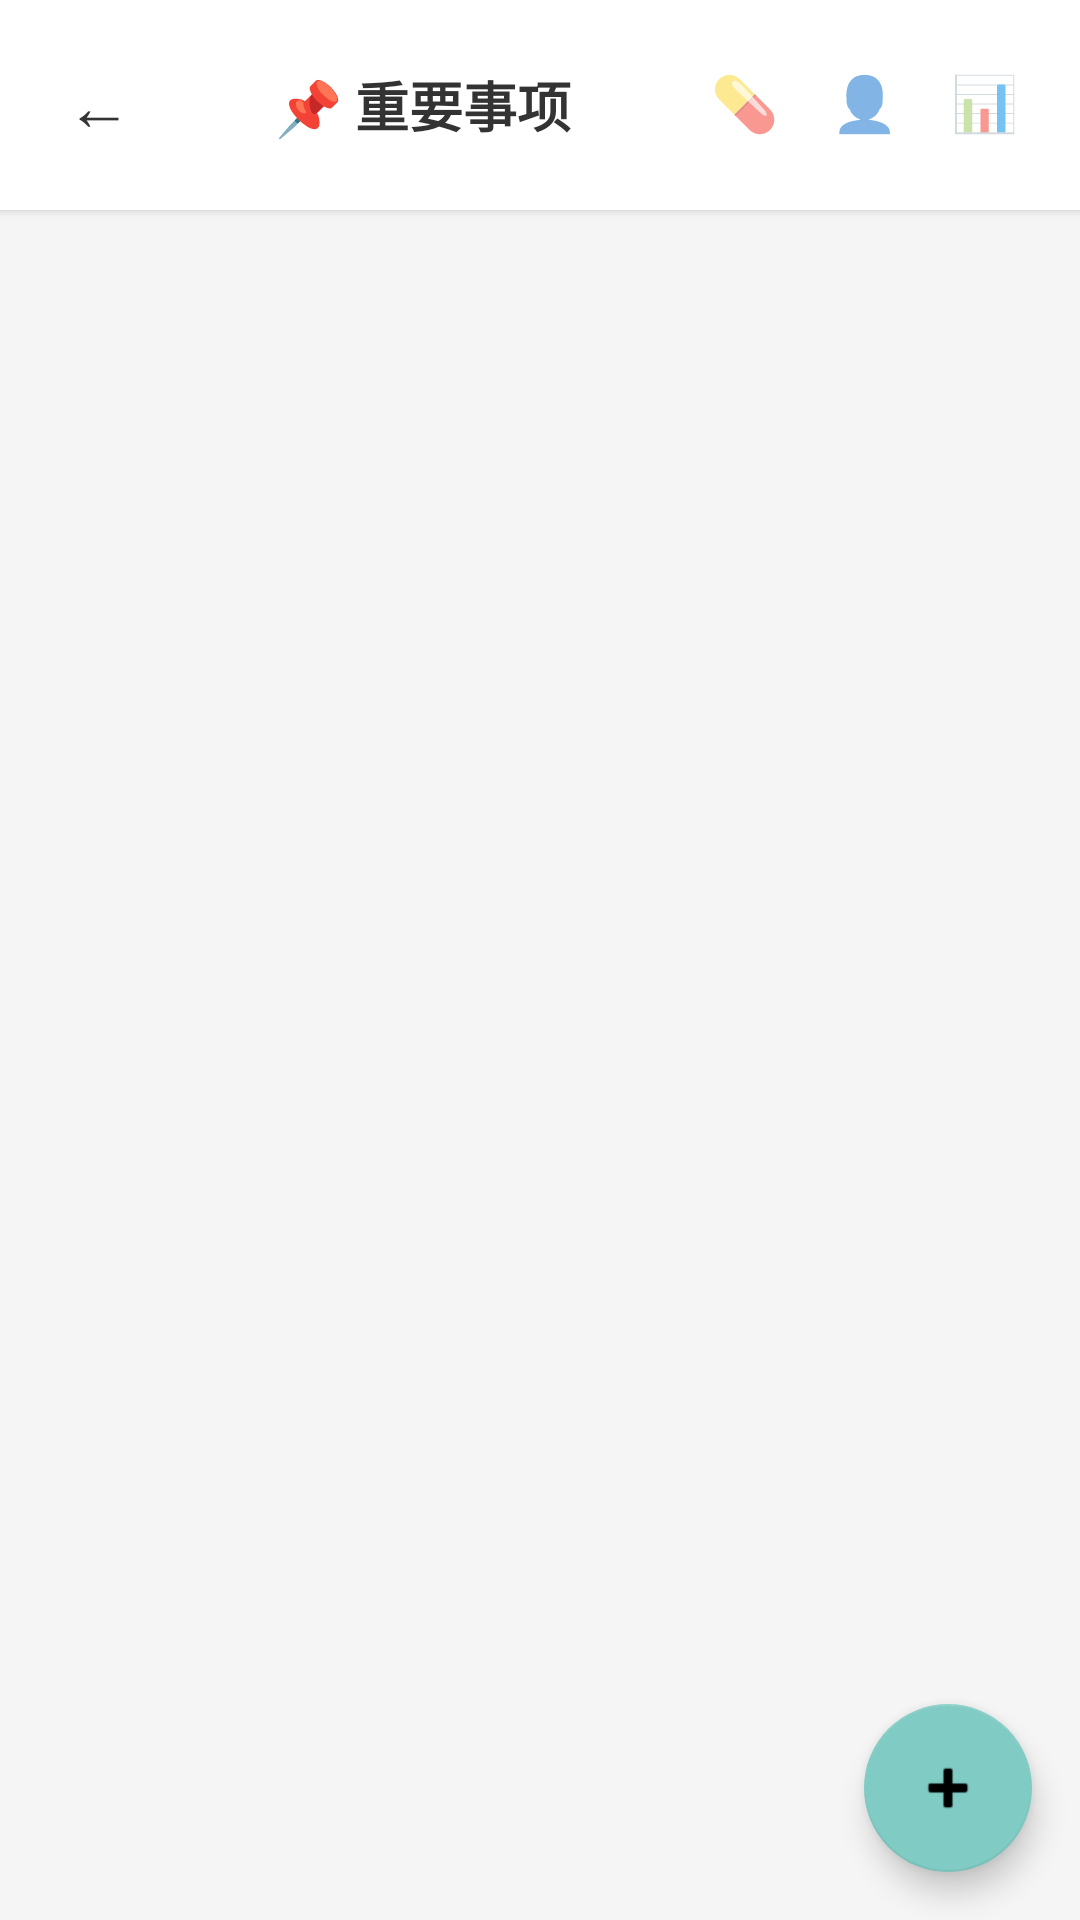

Screen size 1080x1920. Icon name, then its box in pixels as (x1, y1, x2, y2):
添加重要事项: (864, 1704, 1032, 1872)
